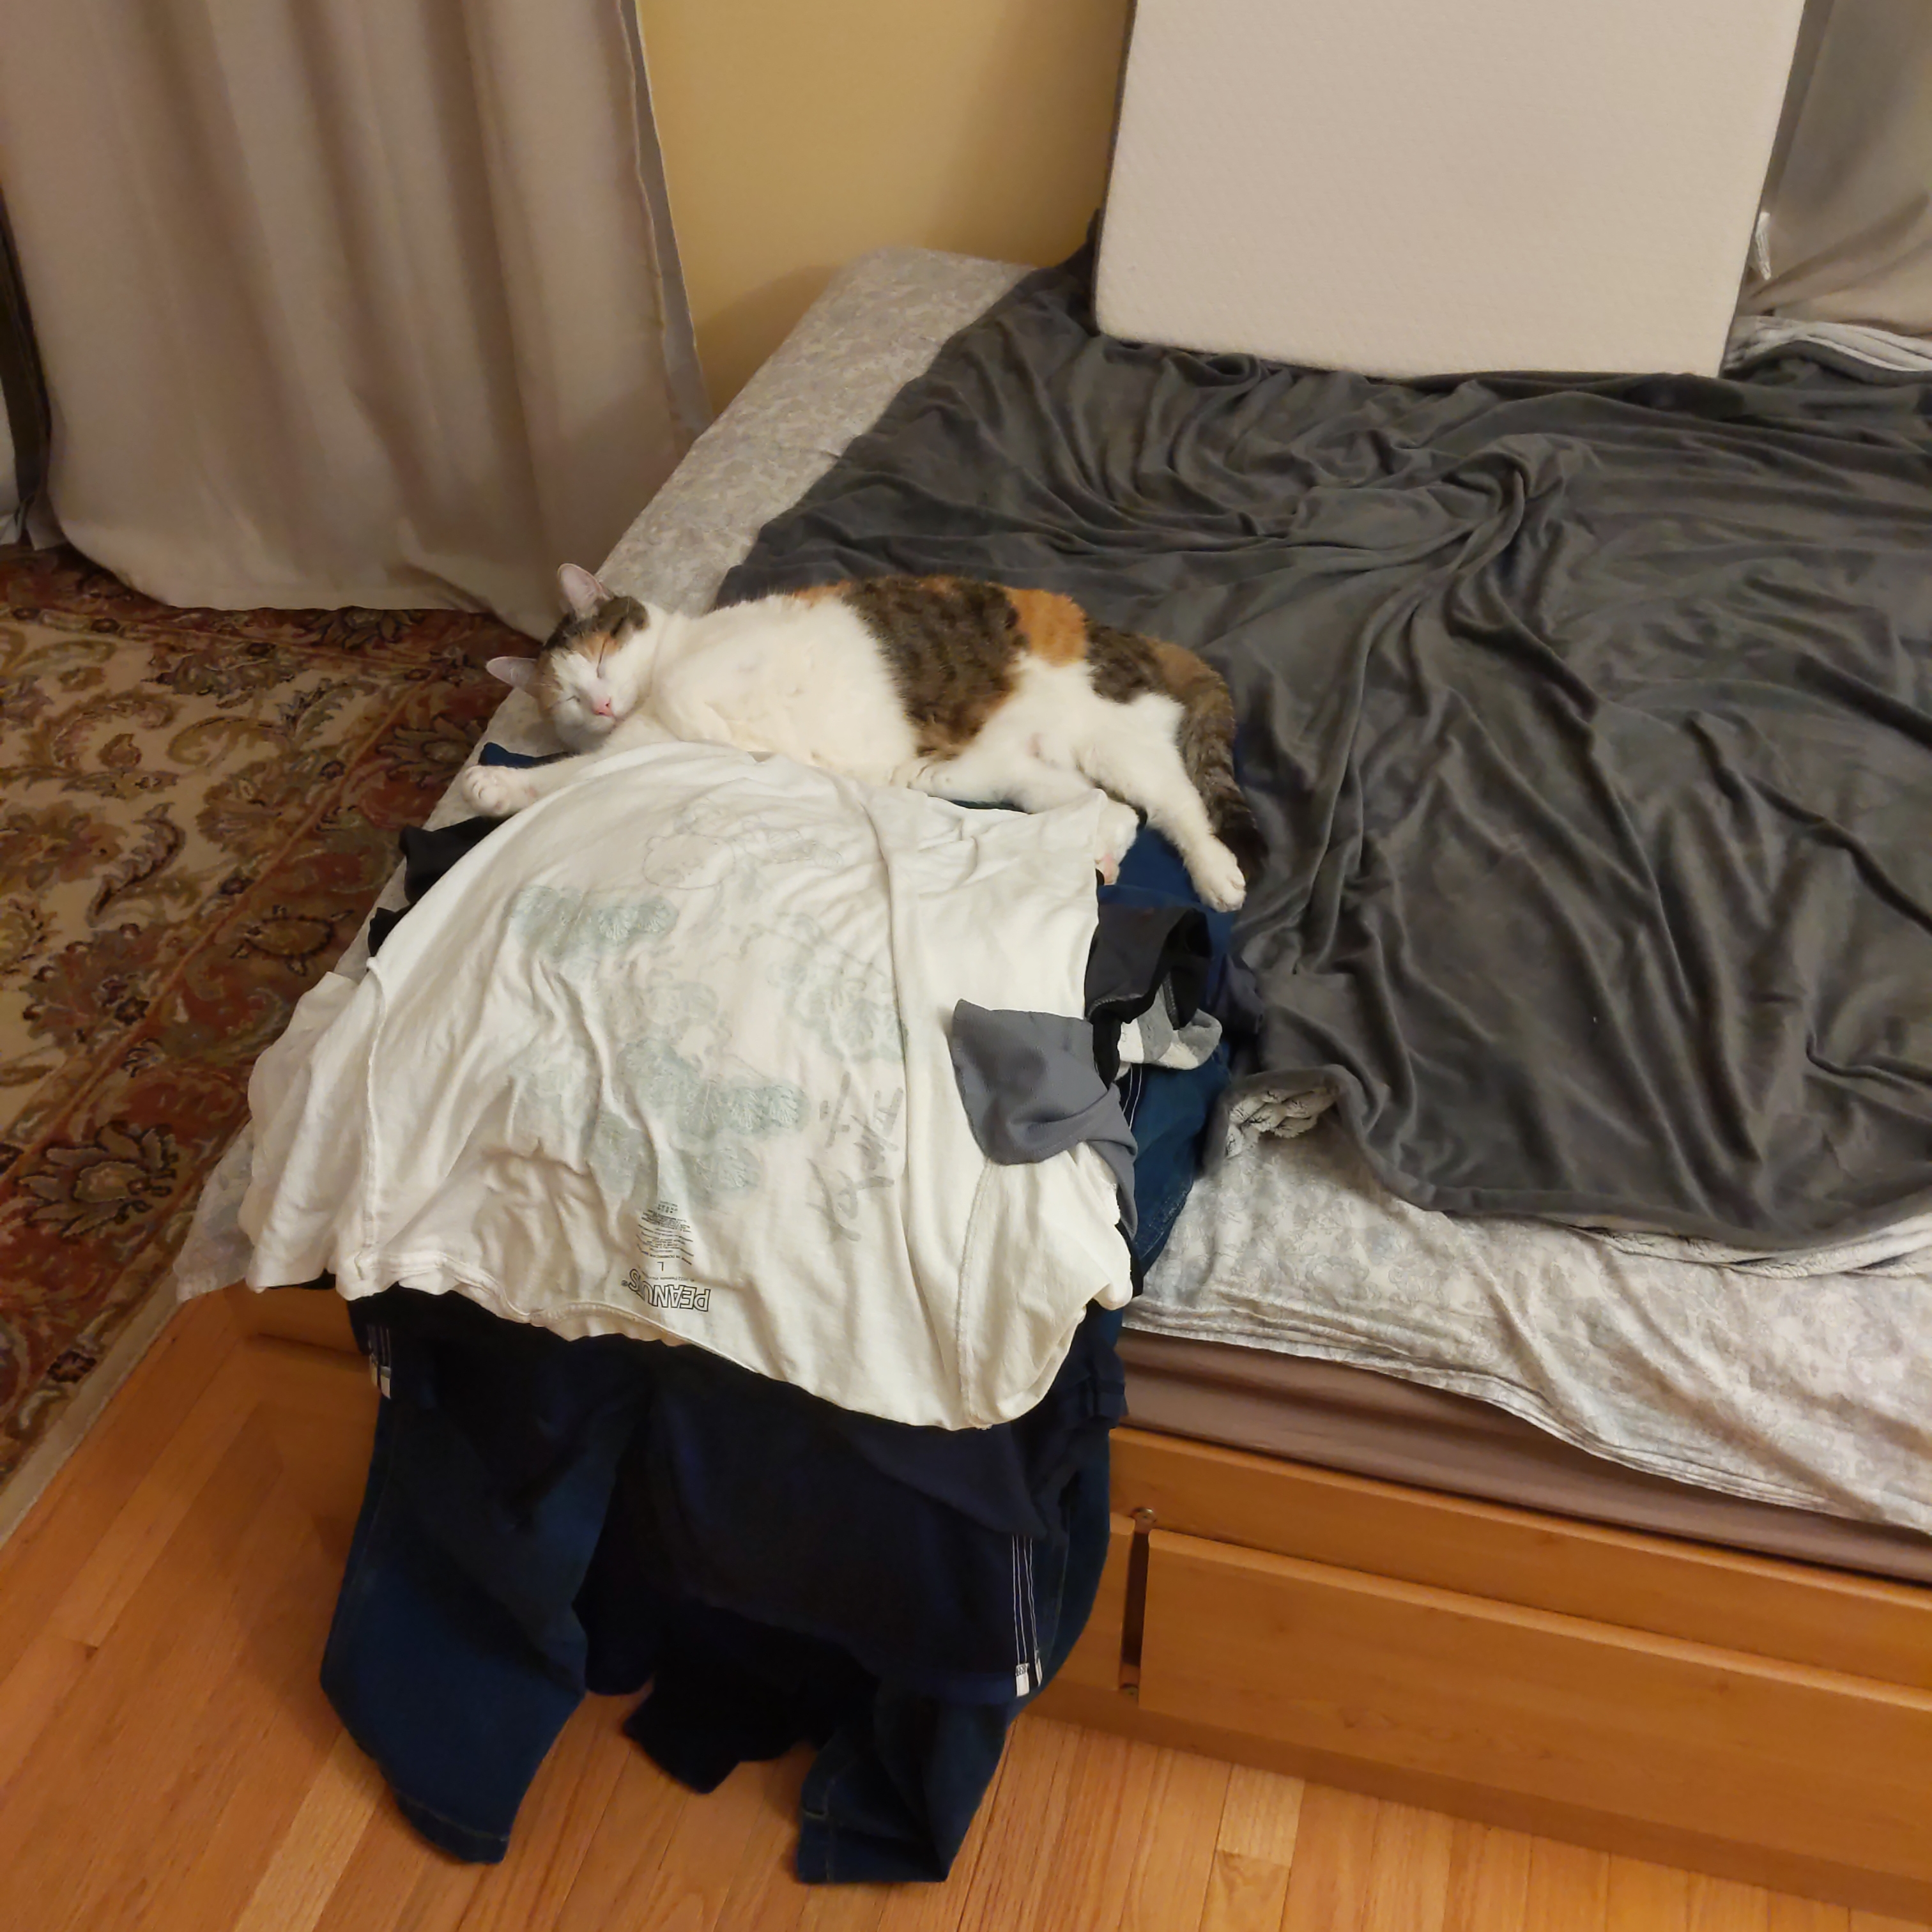Calico: (464, 561, 1270, 911)
